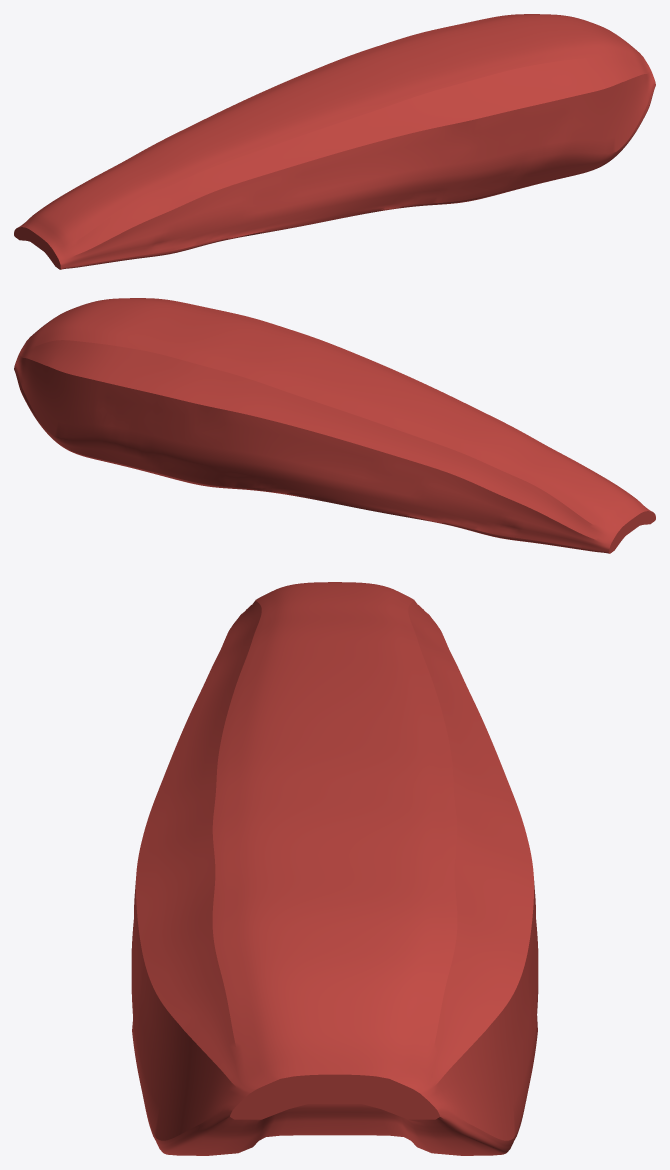
The model's file is bobber_2.glb.
3 renders of one model, top to bottom at view 1: azimuth 30°, elevation 25°; view 2: azimuth 150°, elevation 25°; view 3: azimuth 270°, elevation 25°, orthographic. The views are drawn at different scales.
Parts seen in each view (by area): view 1: bobber_2; view 2: bobber_2; view 3: bobber_2.
Part boxes in pixels (<box>): bobber_2: <box>14,14,655,269</box>; bobber_2: <box>14,298,655,553</box>; bobber_2: <box>131,582,538,1155</box>.
Bounding box in the file's own units: 1.06 × 0.2017 × 0.3168.
